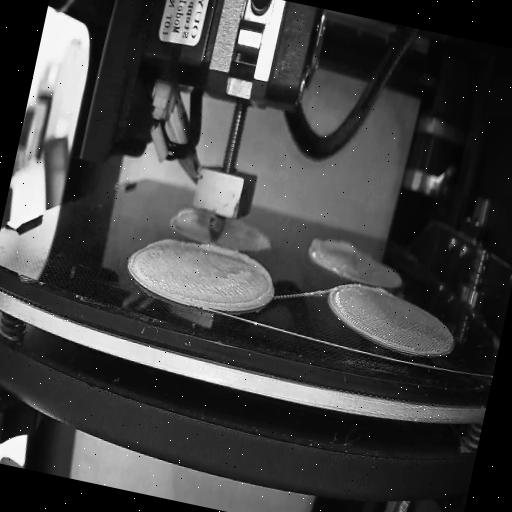over_extrusion: (184, 238, 282, 321), (303, 232, 357, 276), (144, 232, 180, 258), (170, 198, 192, 234), (366, 282, 391, 298)
